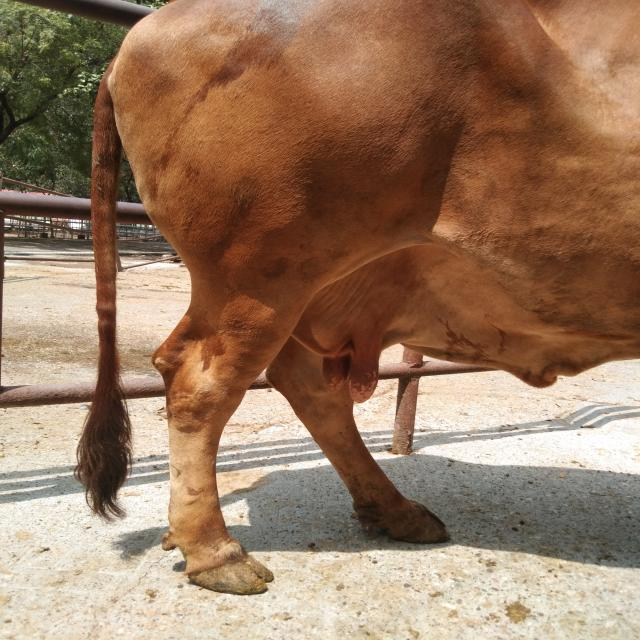Hoof: (353, 499, 450, 544), (184, 551, 274, 595)
